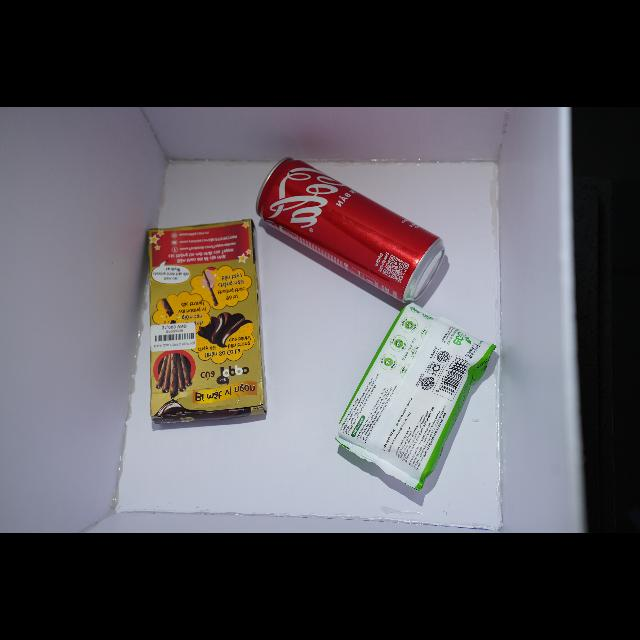banh_toppo_socola: (148, 220, 265, 423)
coca_cola: (256, 159, 444, 302)
khan_giay: (335, 304, 496, 490)
